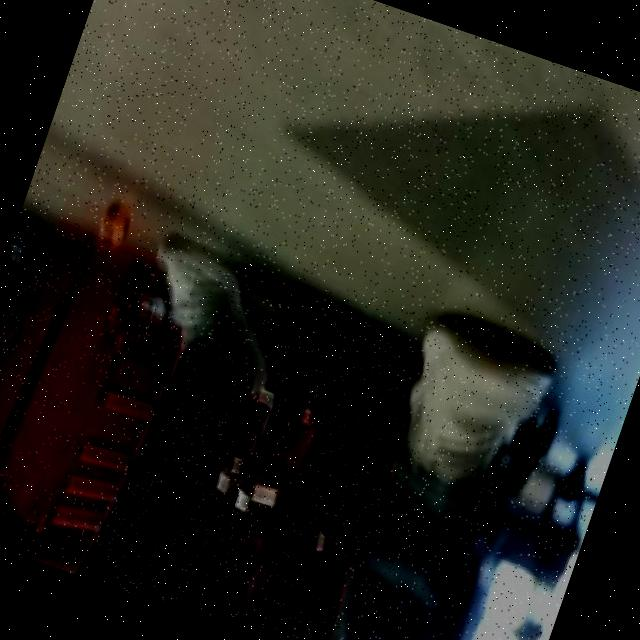ping-pong-ball: (88, 194, 140, 257)
